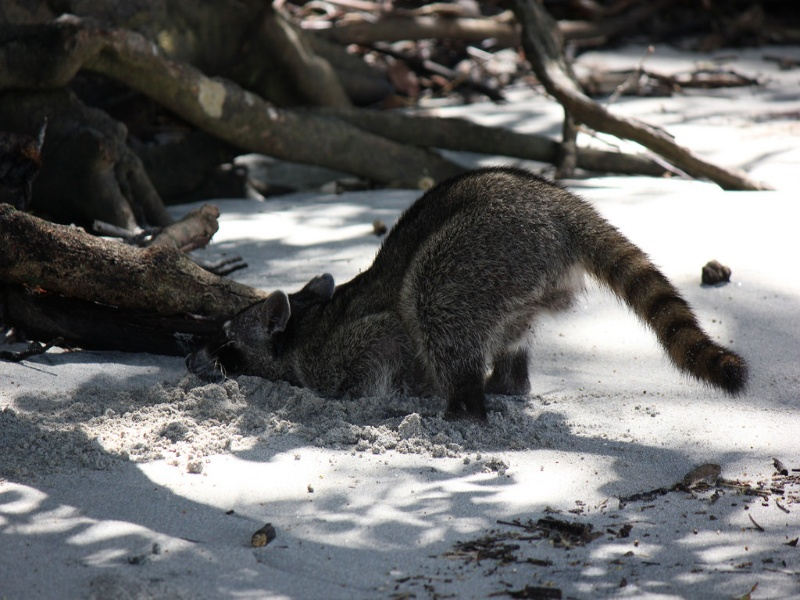raccoon: (183, 169, 754, 458)
